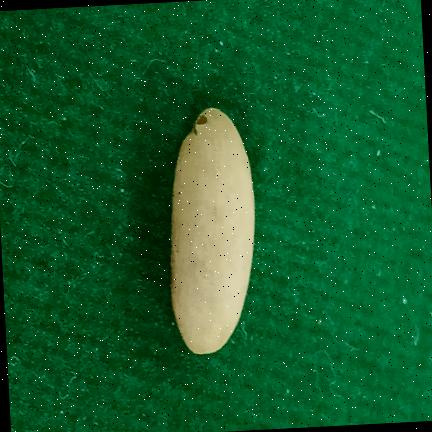parchment: (170, 108, 255, 354)
